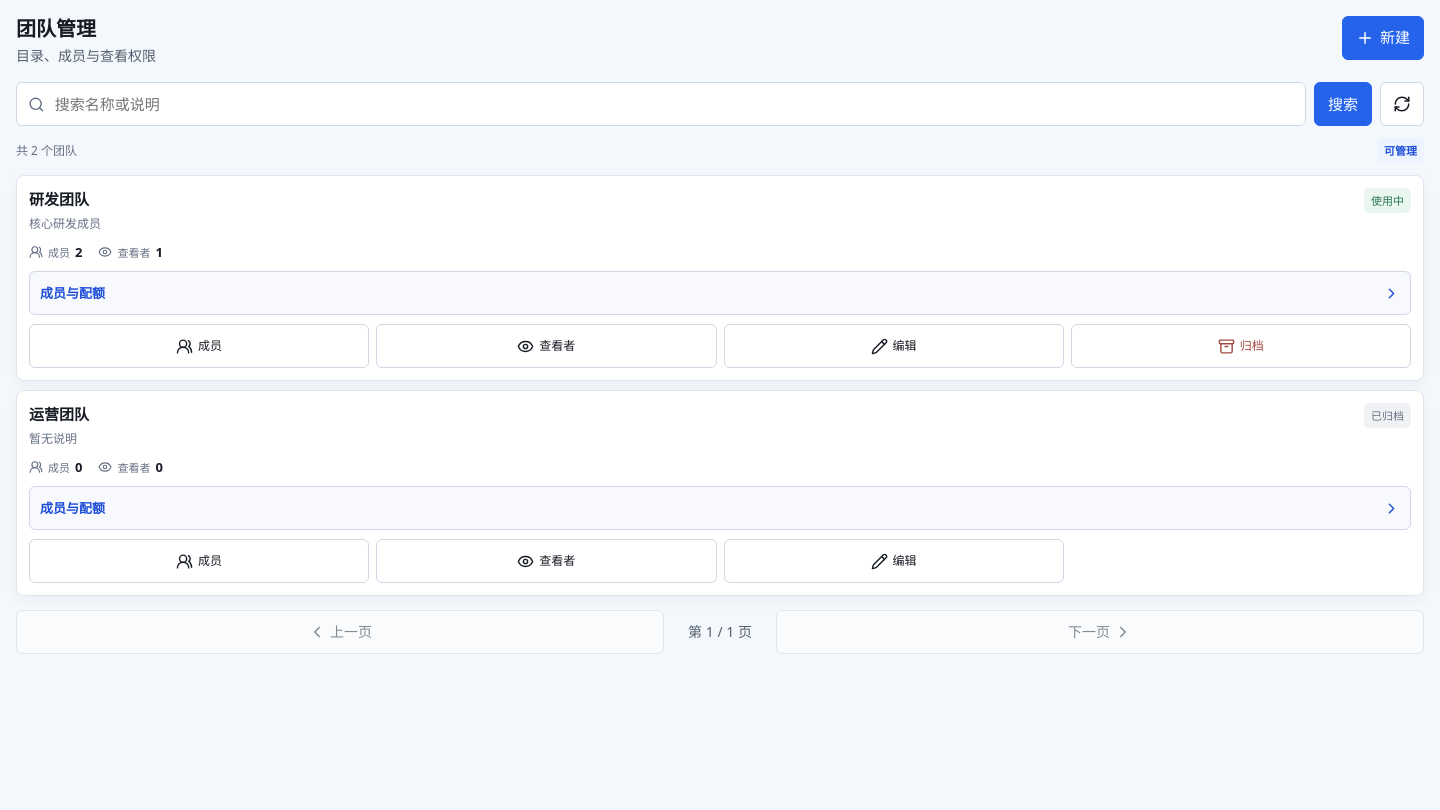
Test: MobileUserGroupsView › rejects a non-array list response and preserves the last valid directory
Click the button with test id "refresh-user-groups": (1402, 104) [1380,82,1424,126]
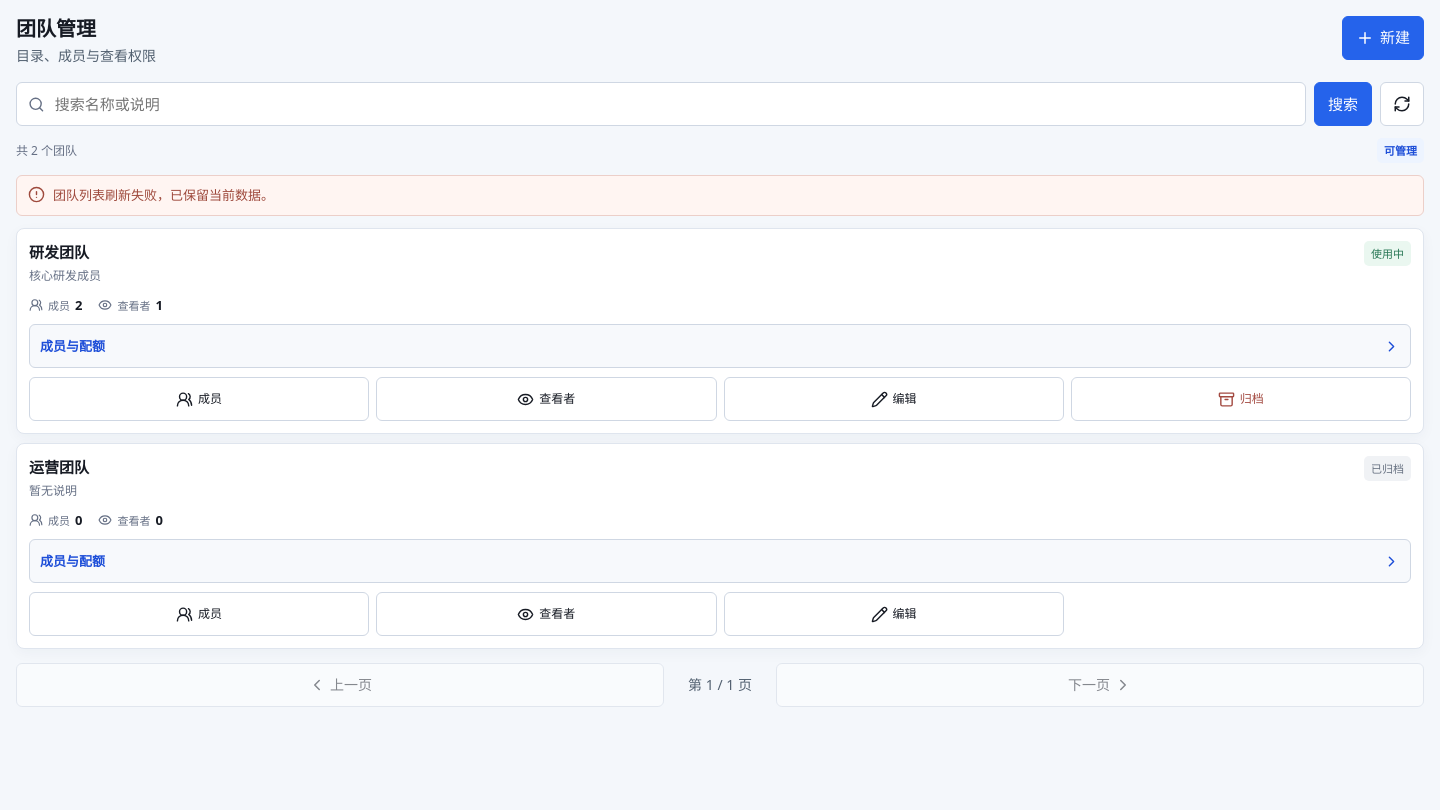
Expected: the number of elements with test id "mobile-user-group-card" is 2, [16,228,1424,434]; [16,443,1424,649]
Now the message with test id "user-group-sync-warning" shows "刷新失败", box [53,186,274,204]
